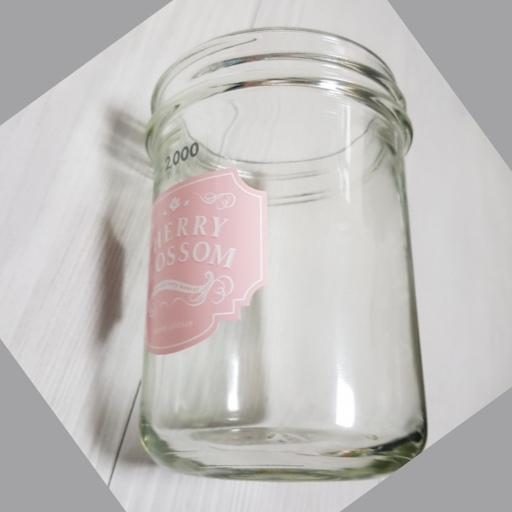Glass_5: (141, 30, 425, 477)
